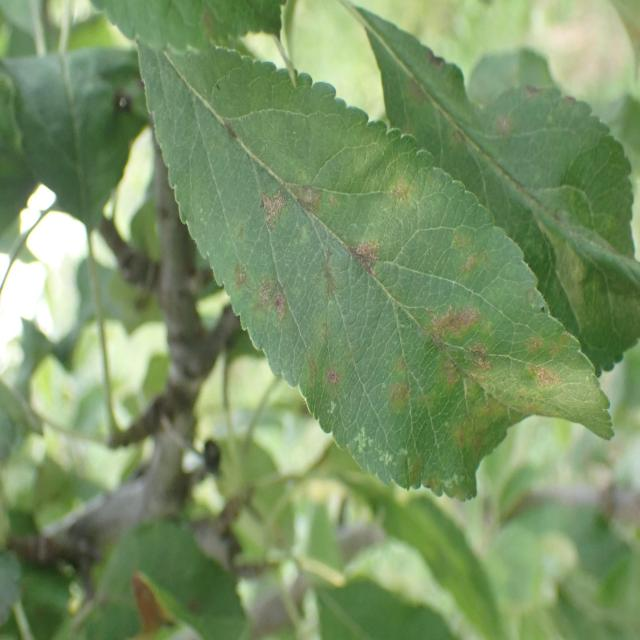scab: (168, 19, 633, 502)
